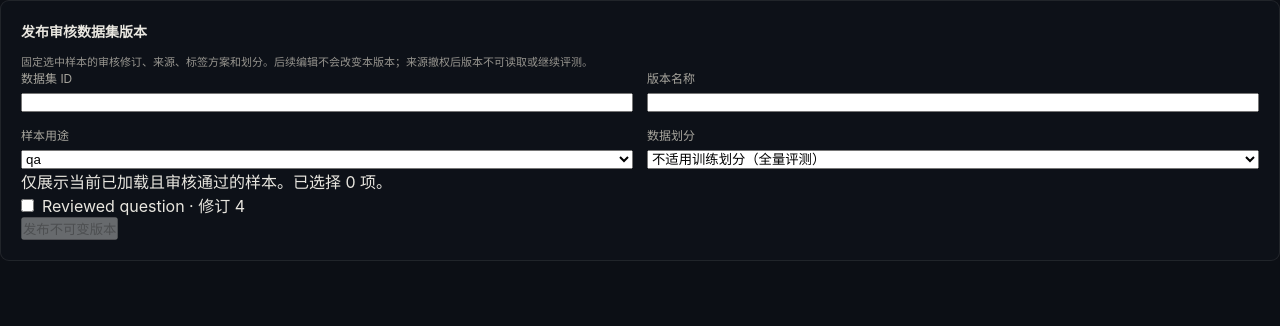
Test: reviewed publishing › publishes only explicitly selected approved revisions
Expected: the number of checkboxes is 1, x1=21 y1=198 x2=34 y2=212
Type "dataset" into the field labelled "数据集 ID" at (327, 102), box x1=21 y1=93 x2=633 y2=112
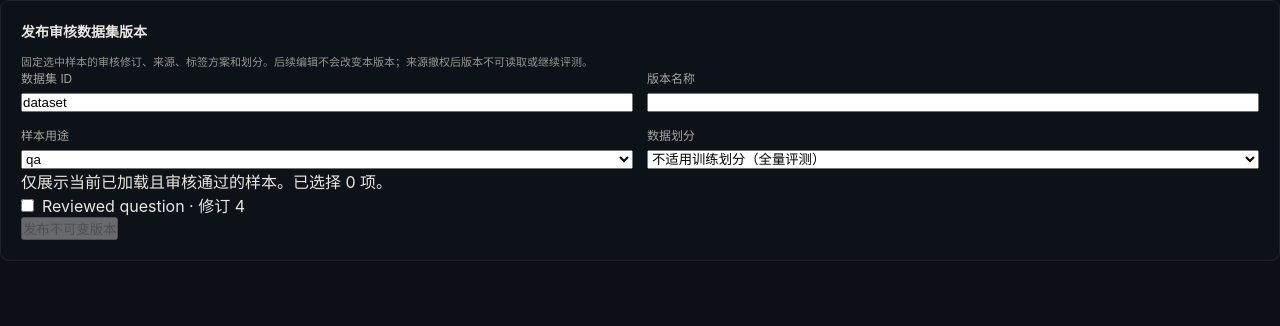
Type "frozen" into the field labelled "版本名称" at (953, 102), box x1=647 y1=93 x2=1259 y2=112
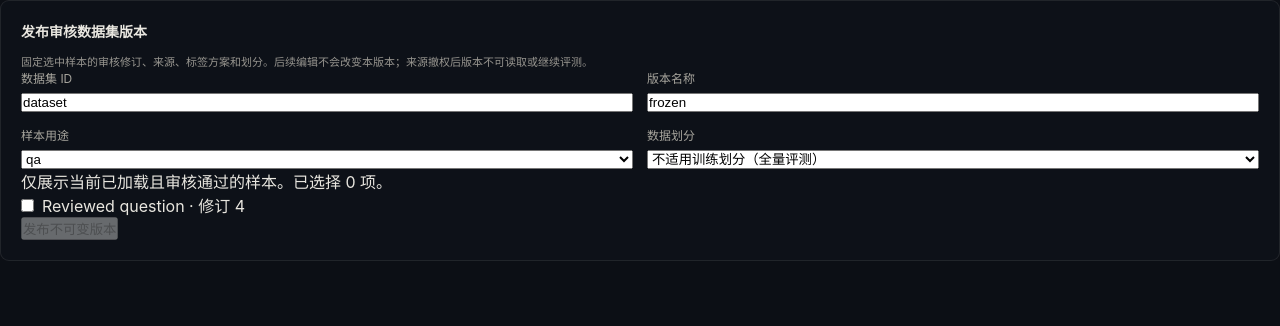
Click the checkbox labelled "Reviewed question · 修订 4" at (28, 205), box x1=21 y1=198 x2=34 y2=212
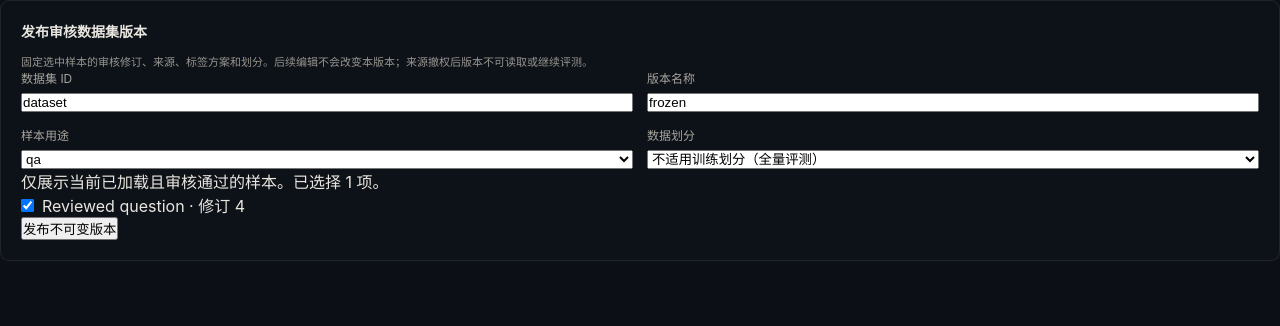
Submit the form, box x1=21 y1=69 x2=1259 y2=240
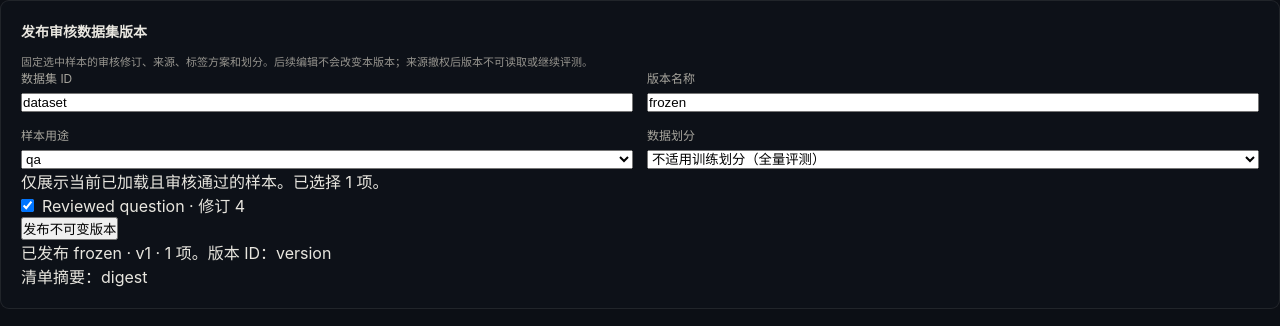
Expected: the text "清单摘要：digest" is shown, x1=21 y1=267 x2=148 y2=287
